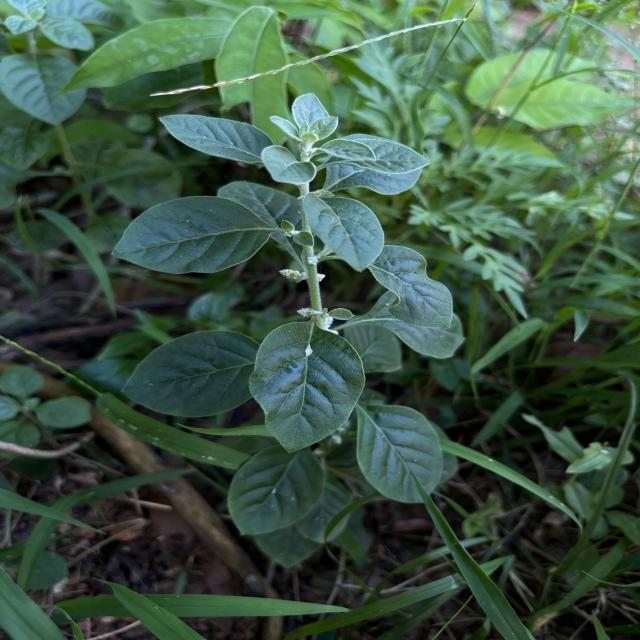Aerva lanata: (246, 316, 368, 456), (107, 193, 275, 276), (117, 327, 264, 420), (365, 241, 457, 331), (300, 190, 386, 276), (154, 110, 276, 166)
